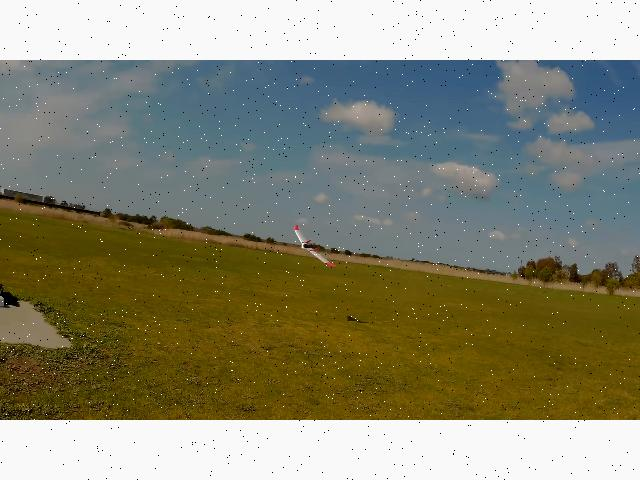Anti-Drone: (293, 225, 335, 267)
